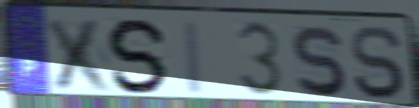3: (234, 19, 284, 100)
I: (181, 18, 207, 97)
S: (105, 16, 172, 96), (288, 23, 348, 99), (349, 24, 407, 102)
X: (43, 16, 117, 94)
